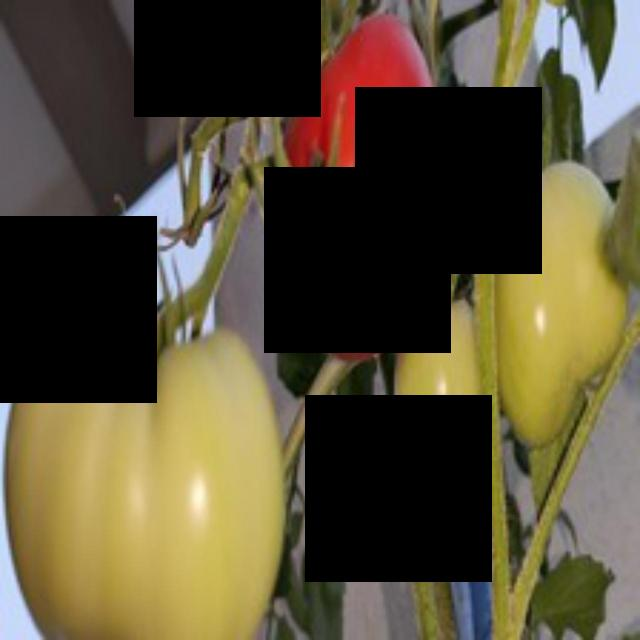tomato: (280, 18, 450, 380)
